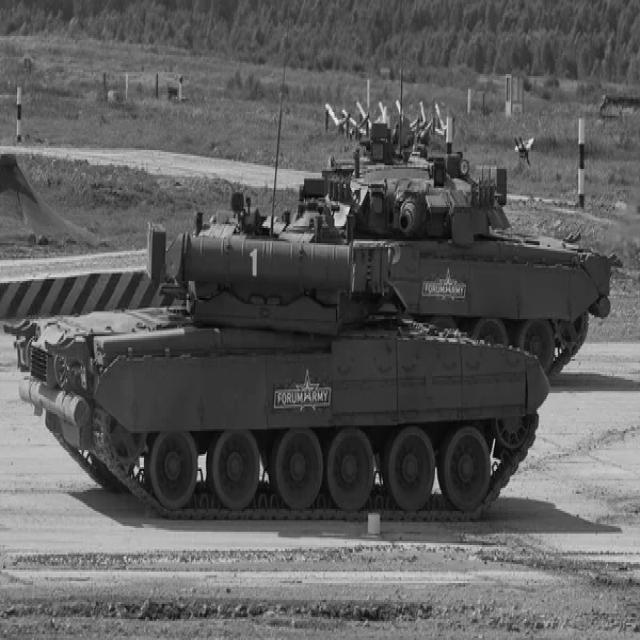Tank: (9, 193, 560, 523), (287, 144, 613, 386)
